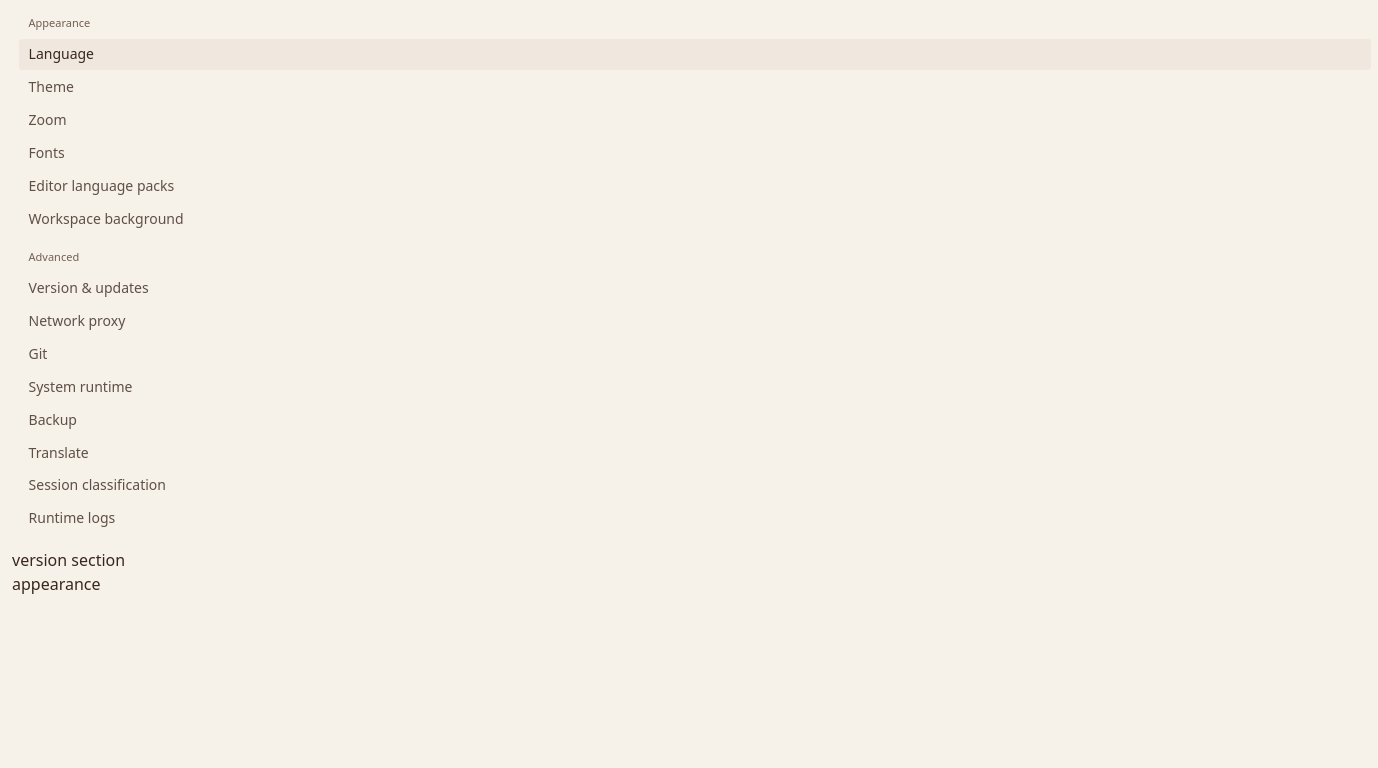
Scenario: SettingsSidebar › lists general sections and shows only the picked one
Expected: the button "Theme" is shown, [19,72,1371,102]
Click the button "Network proxy".
click(77, 321)  # box [19,306,1371,337]
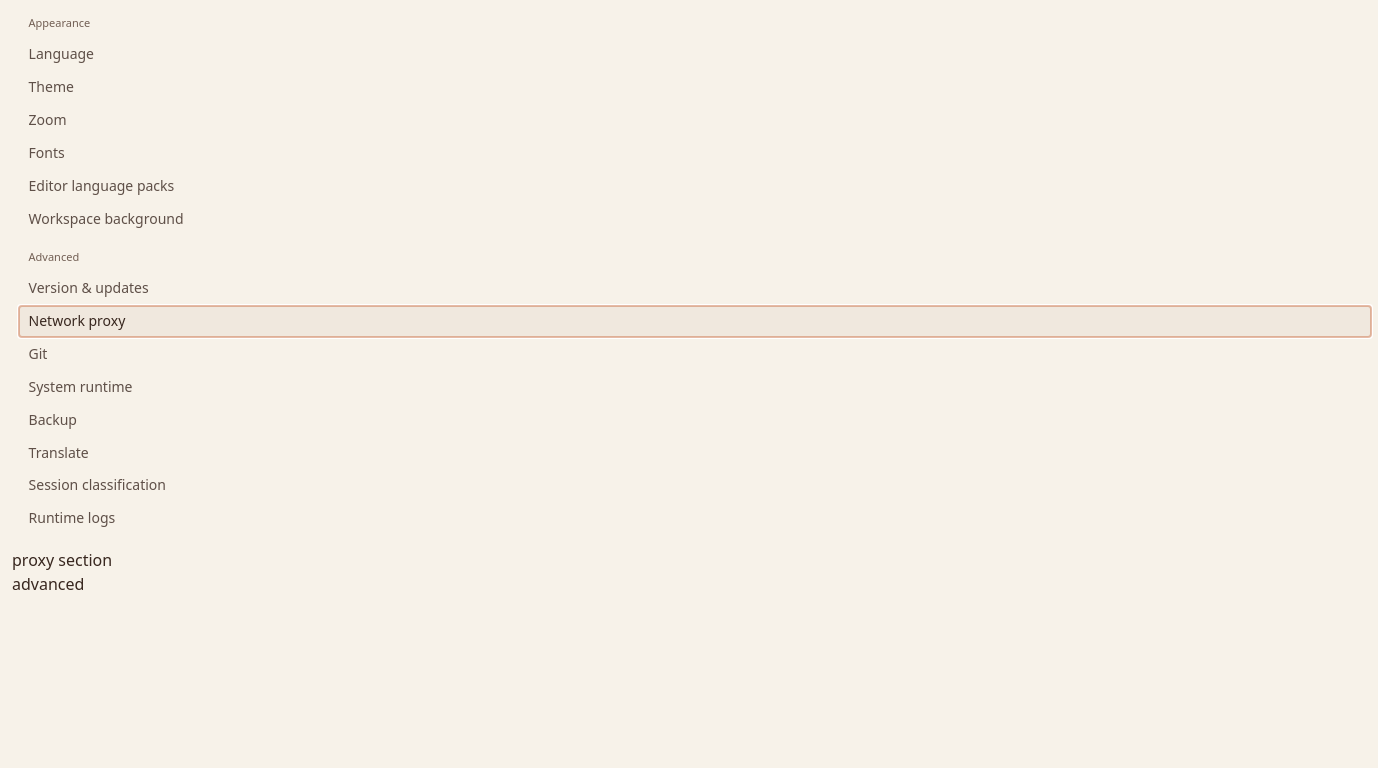
Now the text "advanced" is shown, box [12,574,84,596]
Now the text "proxy section" is shown, box [12,550,112,572]
Now the text "version section" is gone
